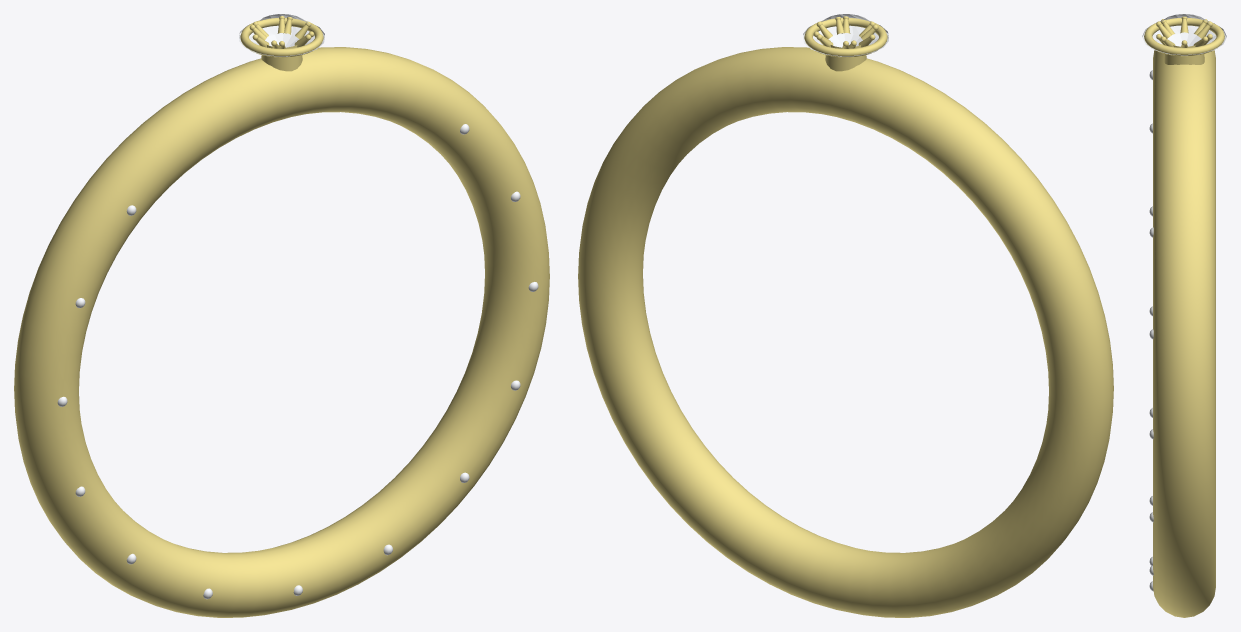
Rendered from ring.glb.
3 views of the same model, side by side, from view 1: azimuth 30°, elevation 25°; view 2: azimuth 150°, elevation 25°; view 3: azimuth 270°, elevation 25° (orthographic). The views are drawn at different scales.
Visible parts, largest first — view 1: Band, Setting_BEZEL, Setting_PAVE, Stone; view 2: Band, Setting_BEZEL, Stone; view 3: Band, Setting_BEZEL, Stone, Setting_6_PRONG, Setting_PAVE, Head, Setting_4_PRONG.
Part boxes in pixels (box(x1,y1,x2,y2)): Band: box(14, 47, 549, 617); Setting_BEZEL: box(240, 18, 323, 57); Setting_PAVE: box(57, 124, 538, 599); Stone: box(239, 14, 324, 56); Band: box(578, 47, 1113, 617); Setting_BEZEL: box(804, 18, 887, 57); Stone: box(803, 14, 888, 56); Band: box(1153, 50, 1215, 617); Setting_BEZEL: box(1144, 18, 1224, 56); Stone: box(1142, 14, 1226, 55); Setting_6_PRONG: box(1156, 16, 1212, 47); Setting_PAVE: box(1149, 70, 1153, 591); Head: box(1164, 45, 1204, 64); Setting_4_PRONG: box(1161, 19, 1207, 46).
Size of the model in its own units: 2.24 by 2.37 by 0.32.
